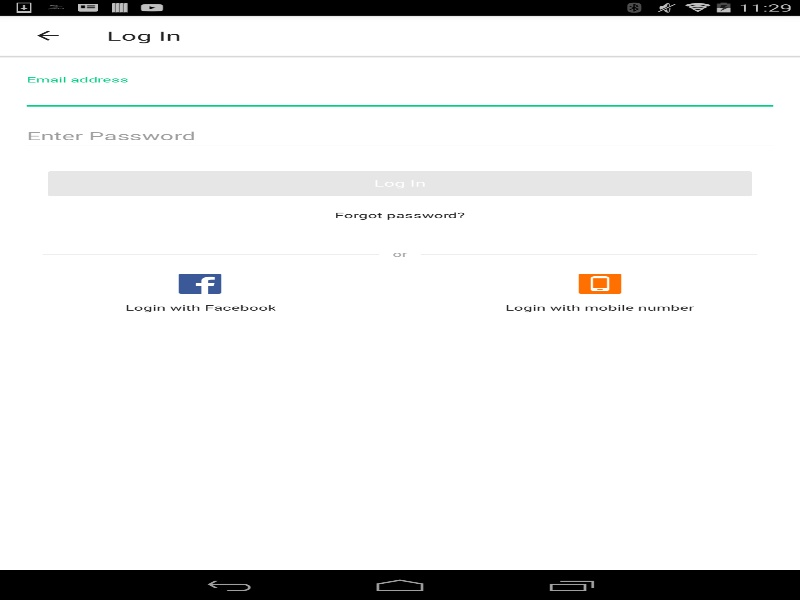Button: (10, 15, 85, 55)
Input: (21, 122, 778, 151), (21, 82, 778, 110)
